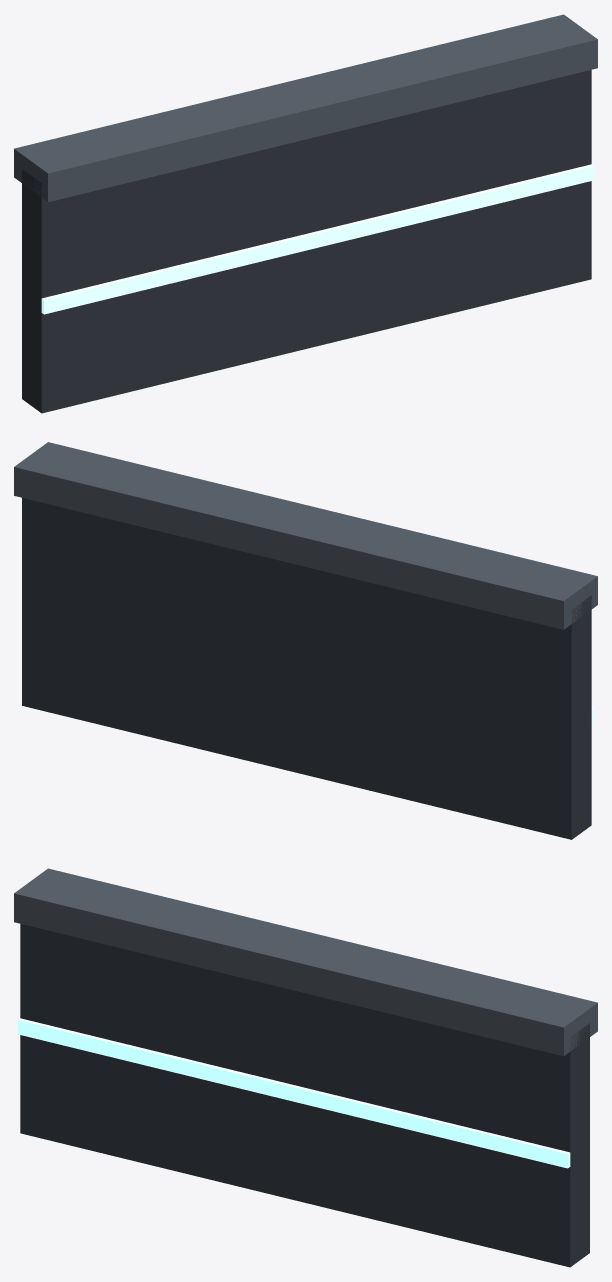
The model's file is cg_top.glb.
The picture shows the model from 3 angles, top to bottom: view 1: azimuth 30°, elevation 25°; view 2: azimuth 150°, elevation 25°; view 3: azimuth 330°, elevation 25°; orthographic projection.
Visible parts, largest first — view 1: city_cg_top; view 2: city_cg_top; view 3: city_cg_top.
Part boxes in pixels (<box>): city_cg_top: <box>14,14,597,413</box>; city_cg_top: <box>14,442,597,839</box>; city_cg_top: <box>14,868,597,1267</box>.
Bounding box in the file's own units: 4 × 1.7 × 0.43.
Materials: 1 (1 with a texture image).
